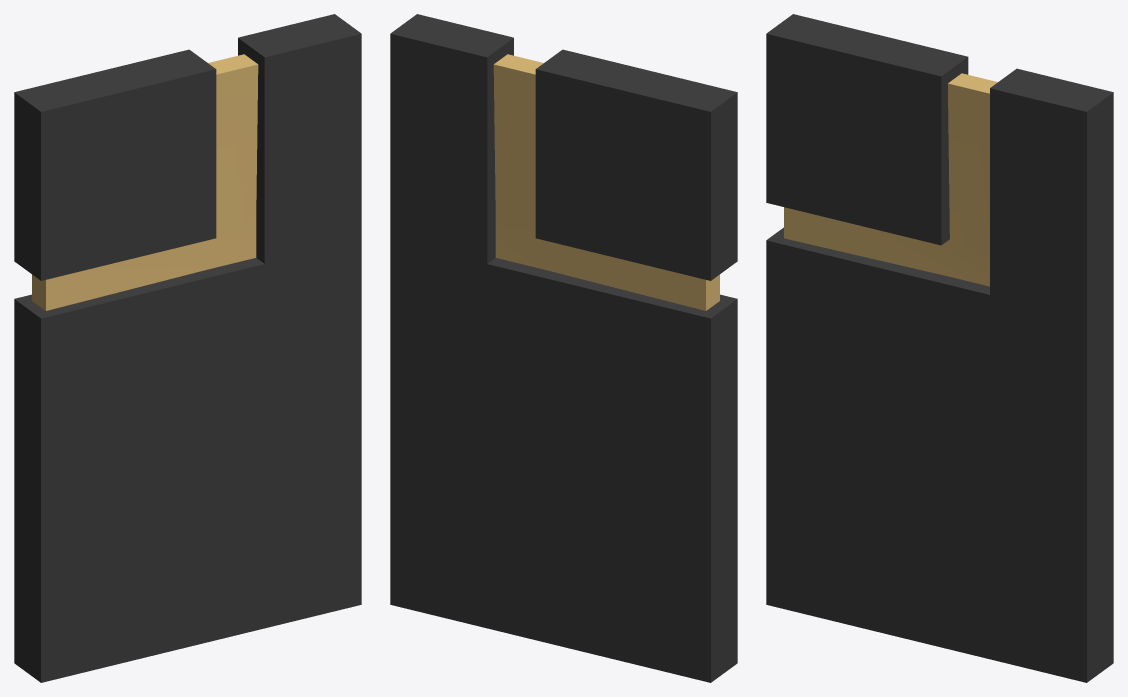
File: Keycard.fbx
3 views of the same model, side by side, from view 1: azimuth 30°, elevation 25°; view 2: azimuth 150°, elevation 25°; view 3: azimuth 330°, elevation 25° (orthographic).
Visible parts, largest first — view 1: pCube22; view 2: pCube22; view 3: pCube22.
Part boxes in pixels (left/top/right/bottom): pCube22: left=14, top=14, right=361, bottom=682; pCube22: left=390, top=14, right=737, bottom=682; pCube22: left=766, top=14, right=1113, bottom=682.
Bounding box in the file's own units: 6.36 × 10.83 × 0.9266.
